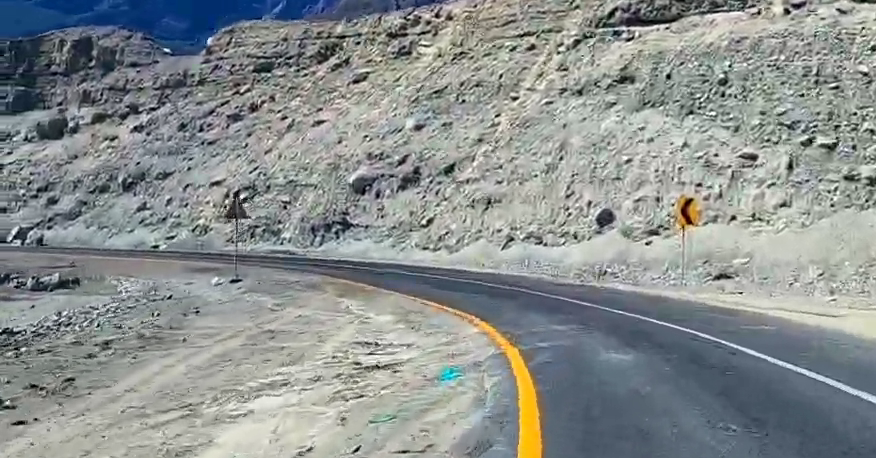right: (331, 210, 856, 433)
